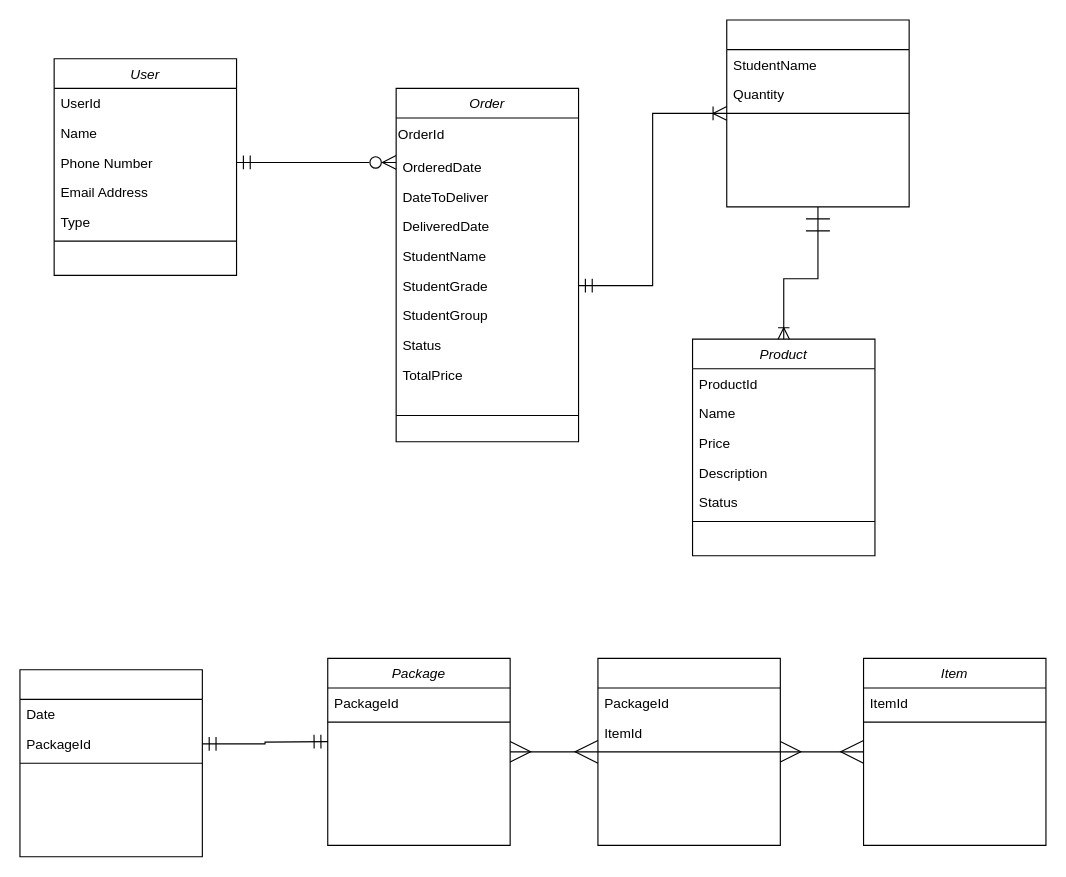
The diagram is 1066 pixels wide and 877 high, and some of its shapes have lost their labels. Each missing label, with the box of its shape:
OrderDetail: (726, 19, 909, 207)
PackageDate: (19, 669, 202, 857)
PackageItems: (597, 657, 780, 845)
